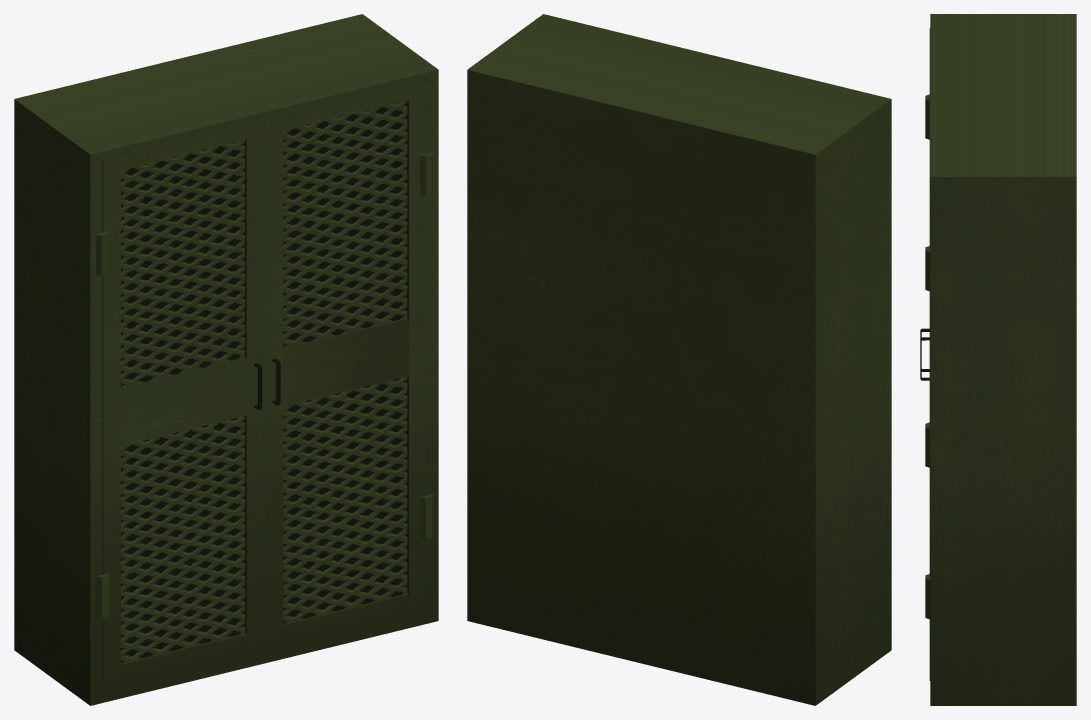
The model's file is locker_doored.fbx.
The picture shows the model from 3 angles, left to right: view 1: azimuth 30°, elevation 25°; view 2: azimuth 150°, elevation 25°; view 3: azimuth 270°, elevation 25°; orthographic projection. The views are drawn at different scales.
Visible parts, largest first — view 1: Locker, Locker_door.L, Locker_door.R; view 2: Locker; view 3: Locker, Locker_door.R.
Part boxes in pixels (x1,y1,x2,y2): Locker: (14, 14, 438, 705); Locker_door.L: (102, 120, 264, 682); Locker_door.R: (263, 81, 426, 643); Locker: (467, 14, 891, 705); Locker: (925, 14, 1076, 705); Locker_door.R: (920, 104, 930, 680).
Bounding box in the file's own units: 132 × 200 × 53.52.
